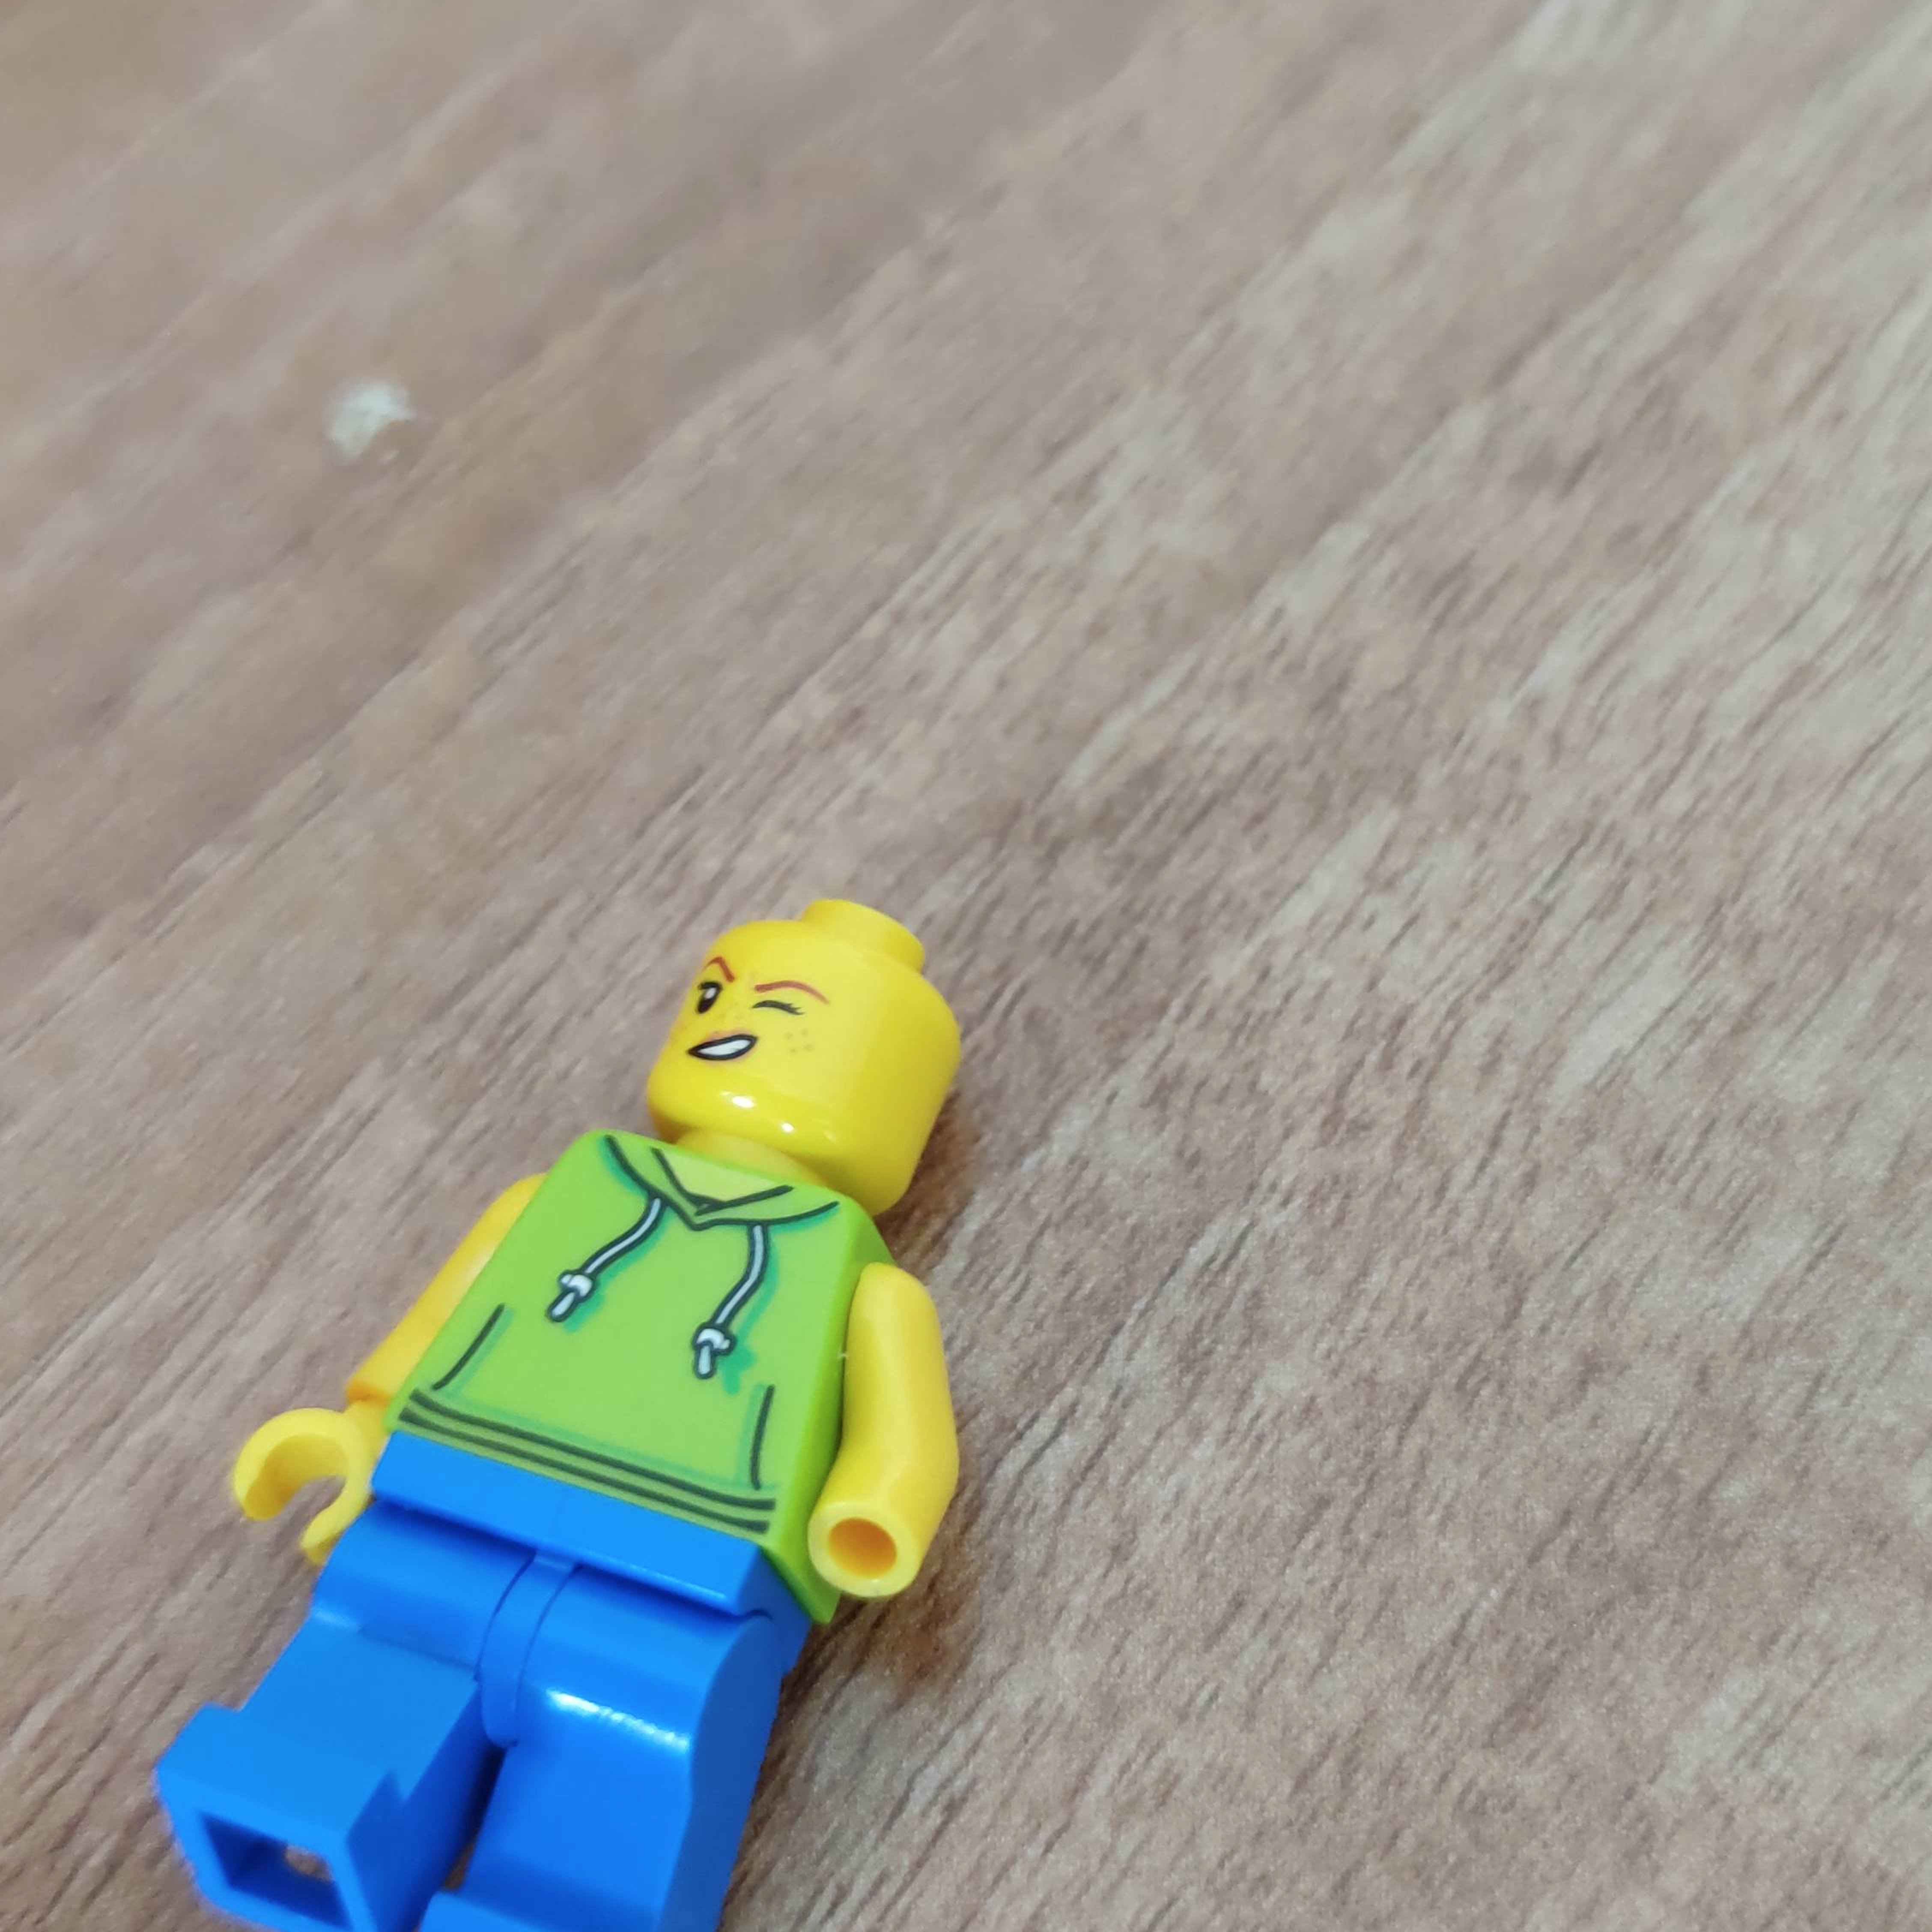lego: (156, 893, 966, 1920)
